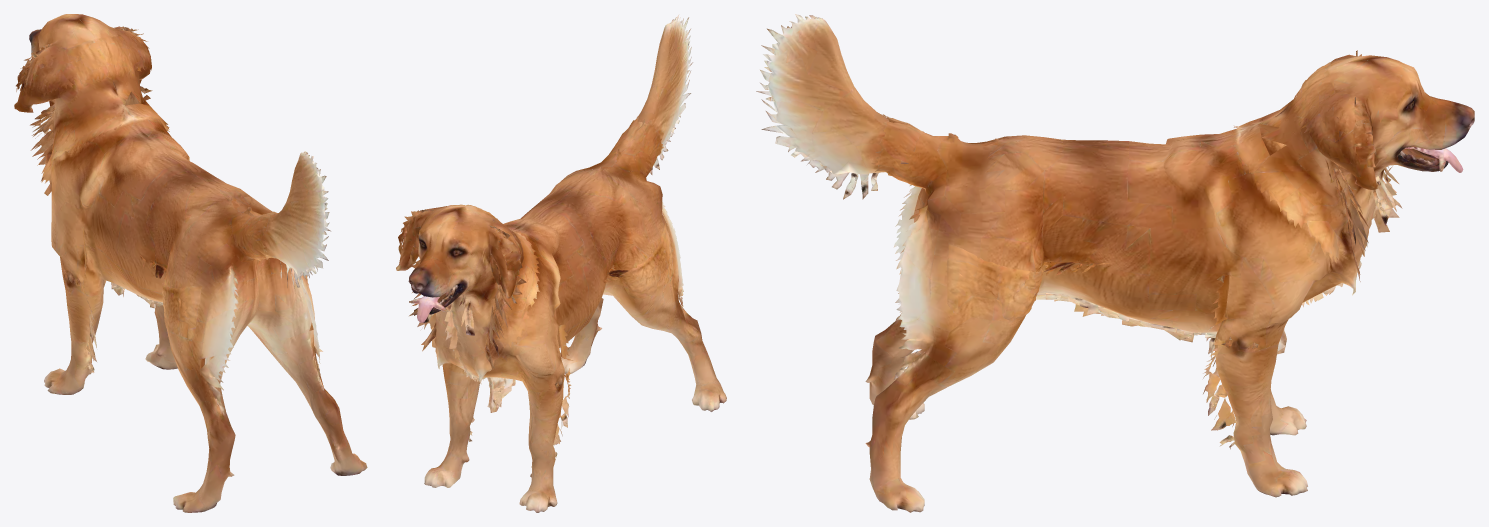
The model's file is chien.glb.
3 views of the same model, side by side, from view 1: azimuth 30°, elevation 25°; view 2: azimuth 150°, elevation 25°; view 3: azimuth 270°, elevation 25° (orthographic). The views are drawn at different scales.
Parts seen in each view (by area): view 1: Object_4; view 2: Object_4; view 3: Object_4.
Boxes of the visible parts, <box> form: Object_4: <box>14,14,367,512</box>; Object_4: <box>396,14,726,512</box>; Object_4: <box>756,14,1474,512</box>.
Size of the model in its own units: 0.7162 by 1.37 by 2.
Materials: 1 (1 with a texture image).
